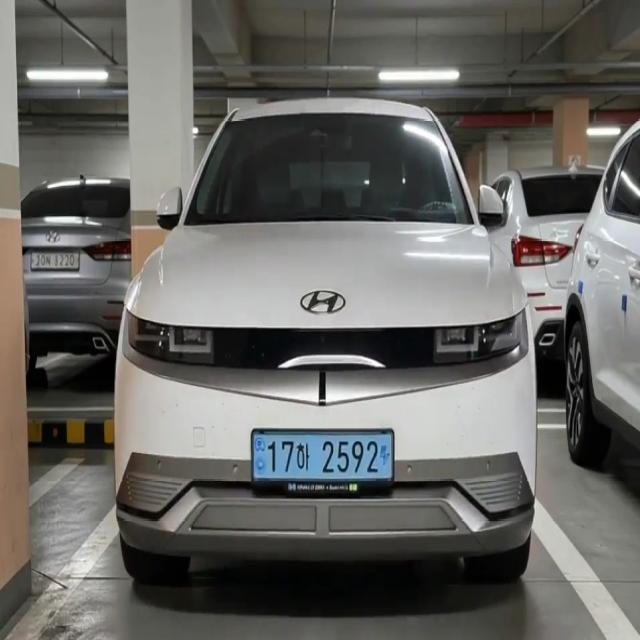car: (252, 429, 394, 486)
carev: (375, 441, 394, 479), (254, 435, 268, 481)
